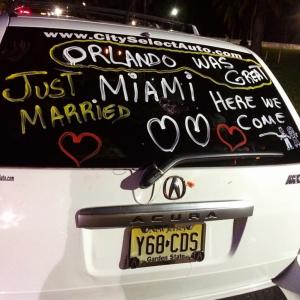Vehicle-registration-plate: (121, 214, 214, 277)
